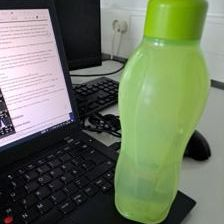bottle: (112, 1, 214, 220)
